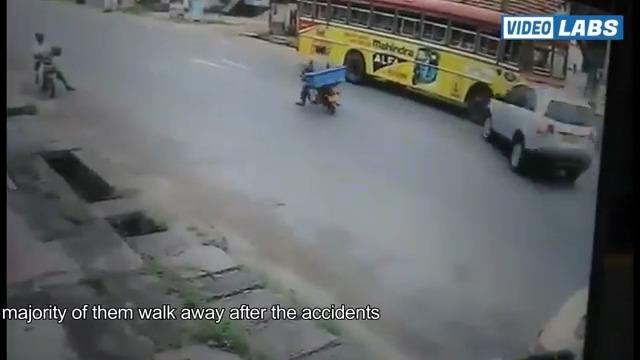accident: (356, 2, 599, 183)
